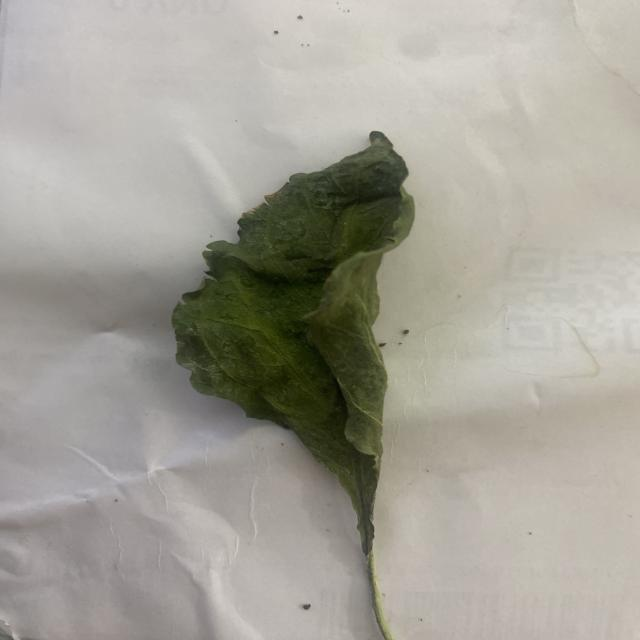Leaf: (167, 128, 415, 539)
